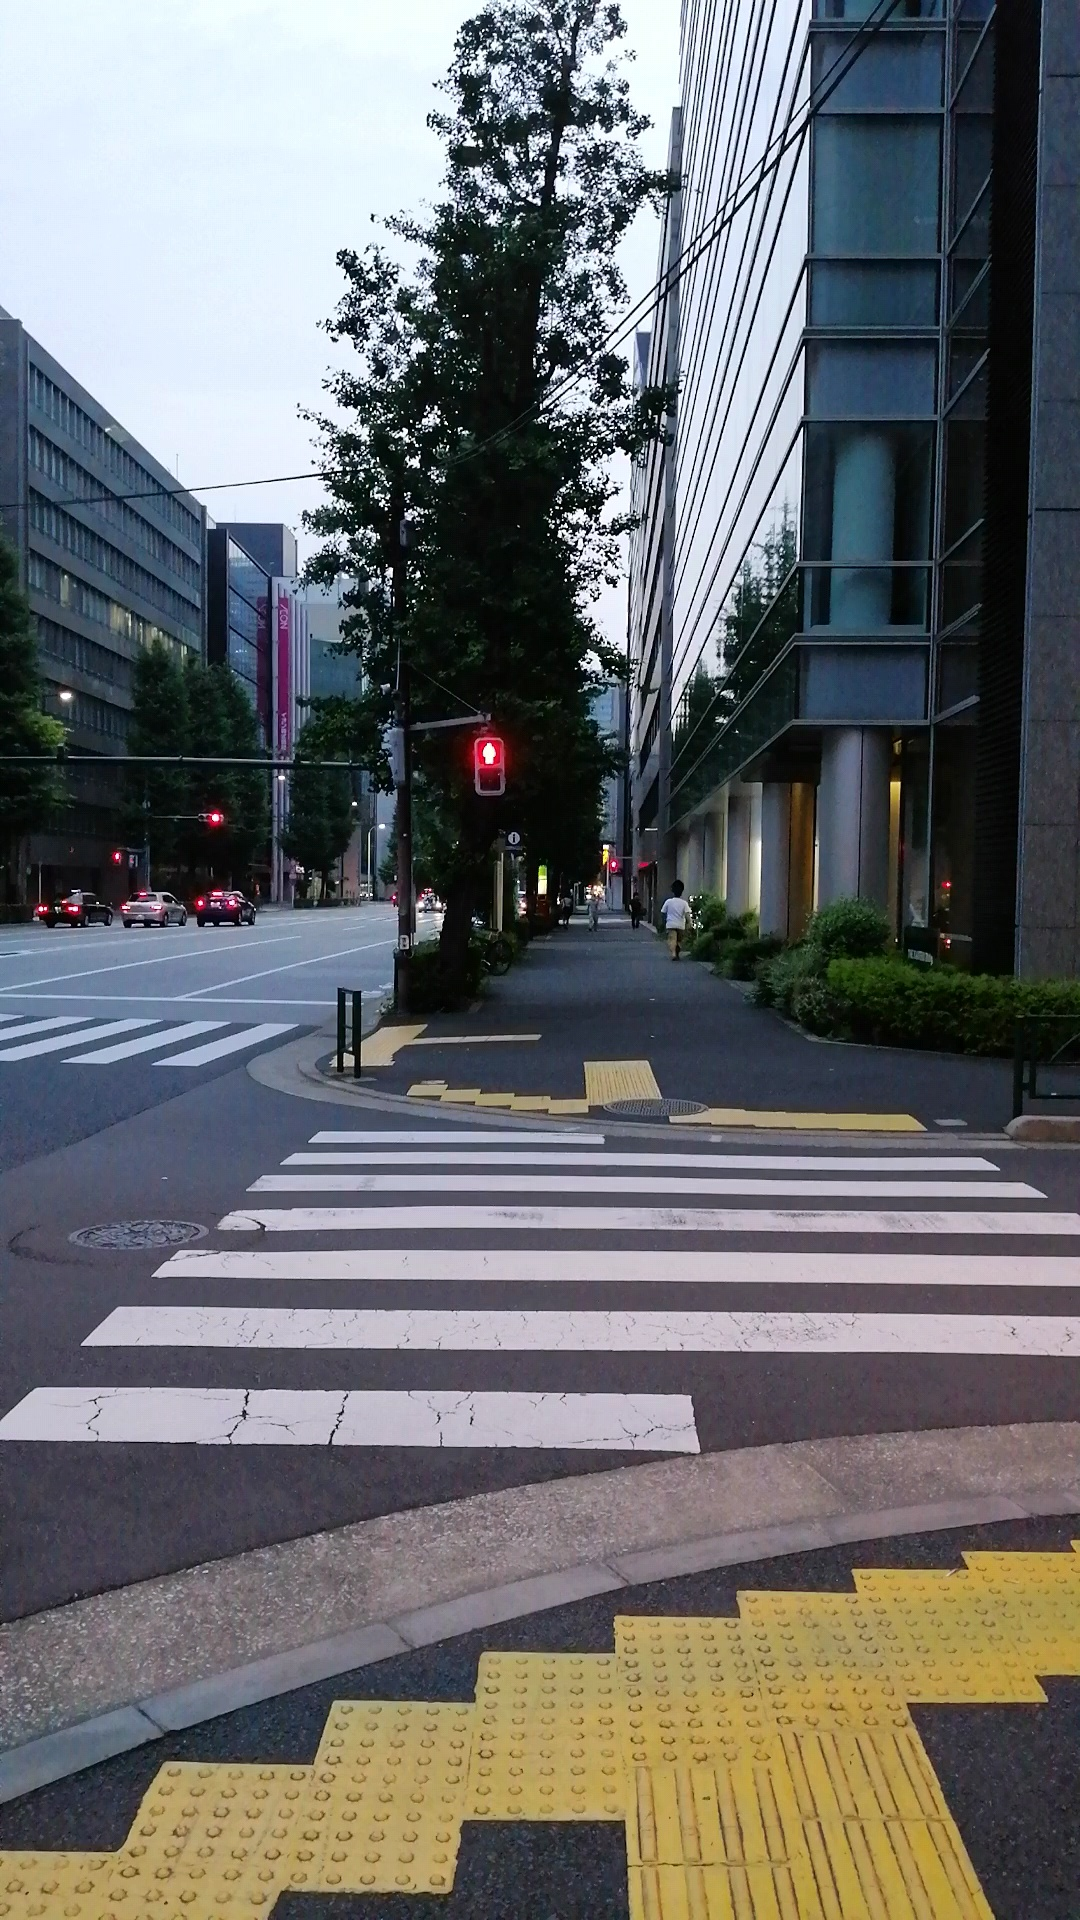red: (473, 737, 506, 796), (608, 857, 618, 874)
